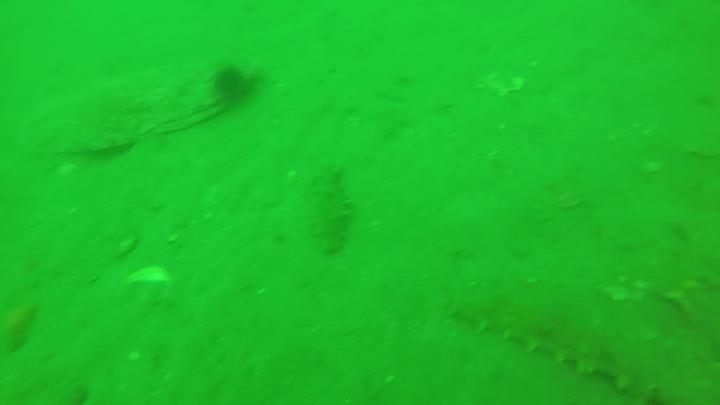echinus: (219, 67, 243, 102)
holothurian: (449, 287, 677, 405), (302, 166, 354, 257)
scallop: (124, 268, 181, 312)
